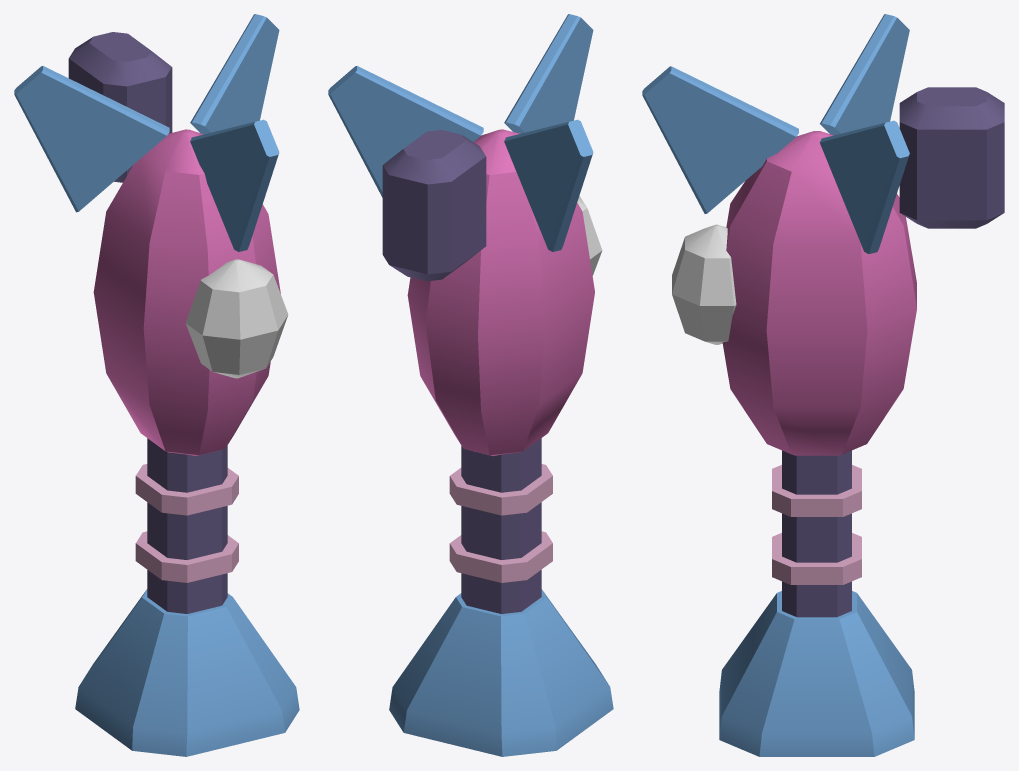
File: gear_pistolet_neon.glb
3 renders of one model, left to right at view 1: azimuth 30°, elevation 25°; view 2: azimuth 150°, elevation 25°; view 3: azimuth 270°, elevation 25°, orthographic.
Visible parts, largest first — view 1: gun__pistolet_neon, gun__pistolet_neon_glow; view 2: gun__pistolet_neon, gun__pistolet_neon_glow; view 3: gun__pistolet_neon, gun__pistolet_neon_glow.
Part boxes in pixels (<box>): gun__pistolet_neon: <box>14,14,299,756</box>; gun__pistolet_neon_glow: <box>185,259,288,378</box>; gun__pistolet_neon: <box>328,14,613,756</box>; gun__pistolet_neon_glow: <box>577,196,602,275</box>; gun__pistolet_neon: <box>642,14,1004,756</box>; gun__pistolet_neon_glow: <box>672,224,736,344</box>.
Size of the model in its own units: 0.1229 by 0.288 by 0.1448.
